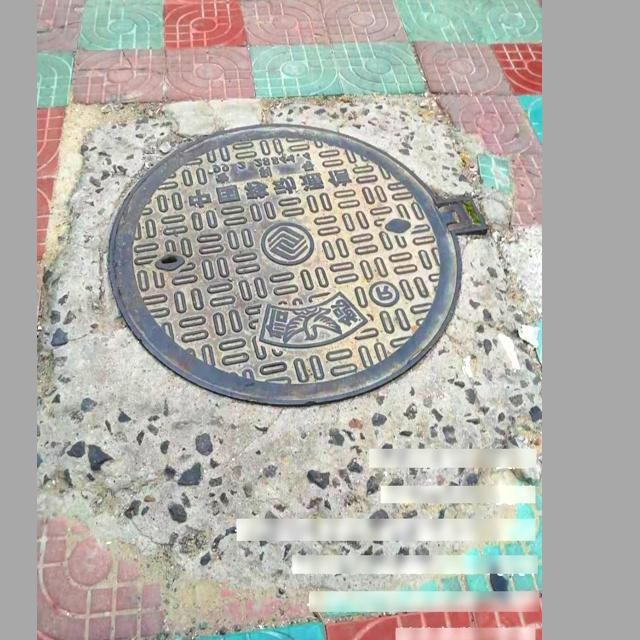good: (106, 121, 488, 406)
